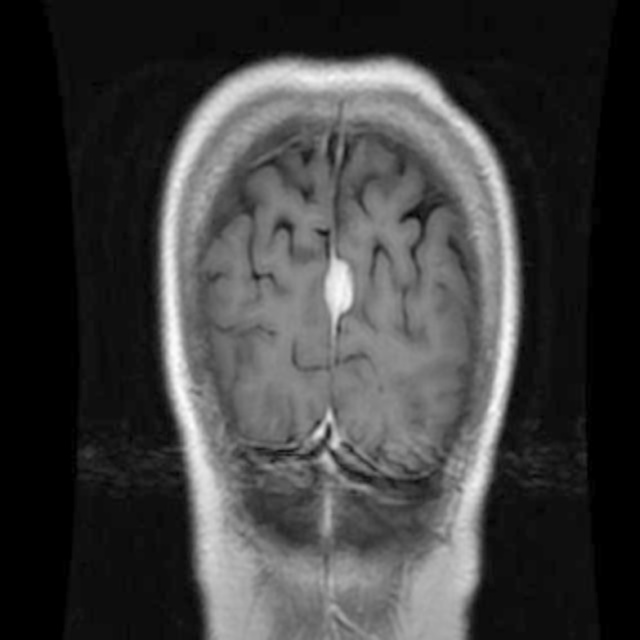meningioma tumor: (318, 248, 363, 344)
